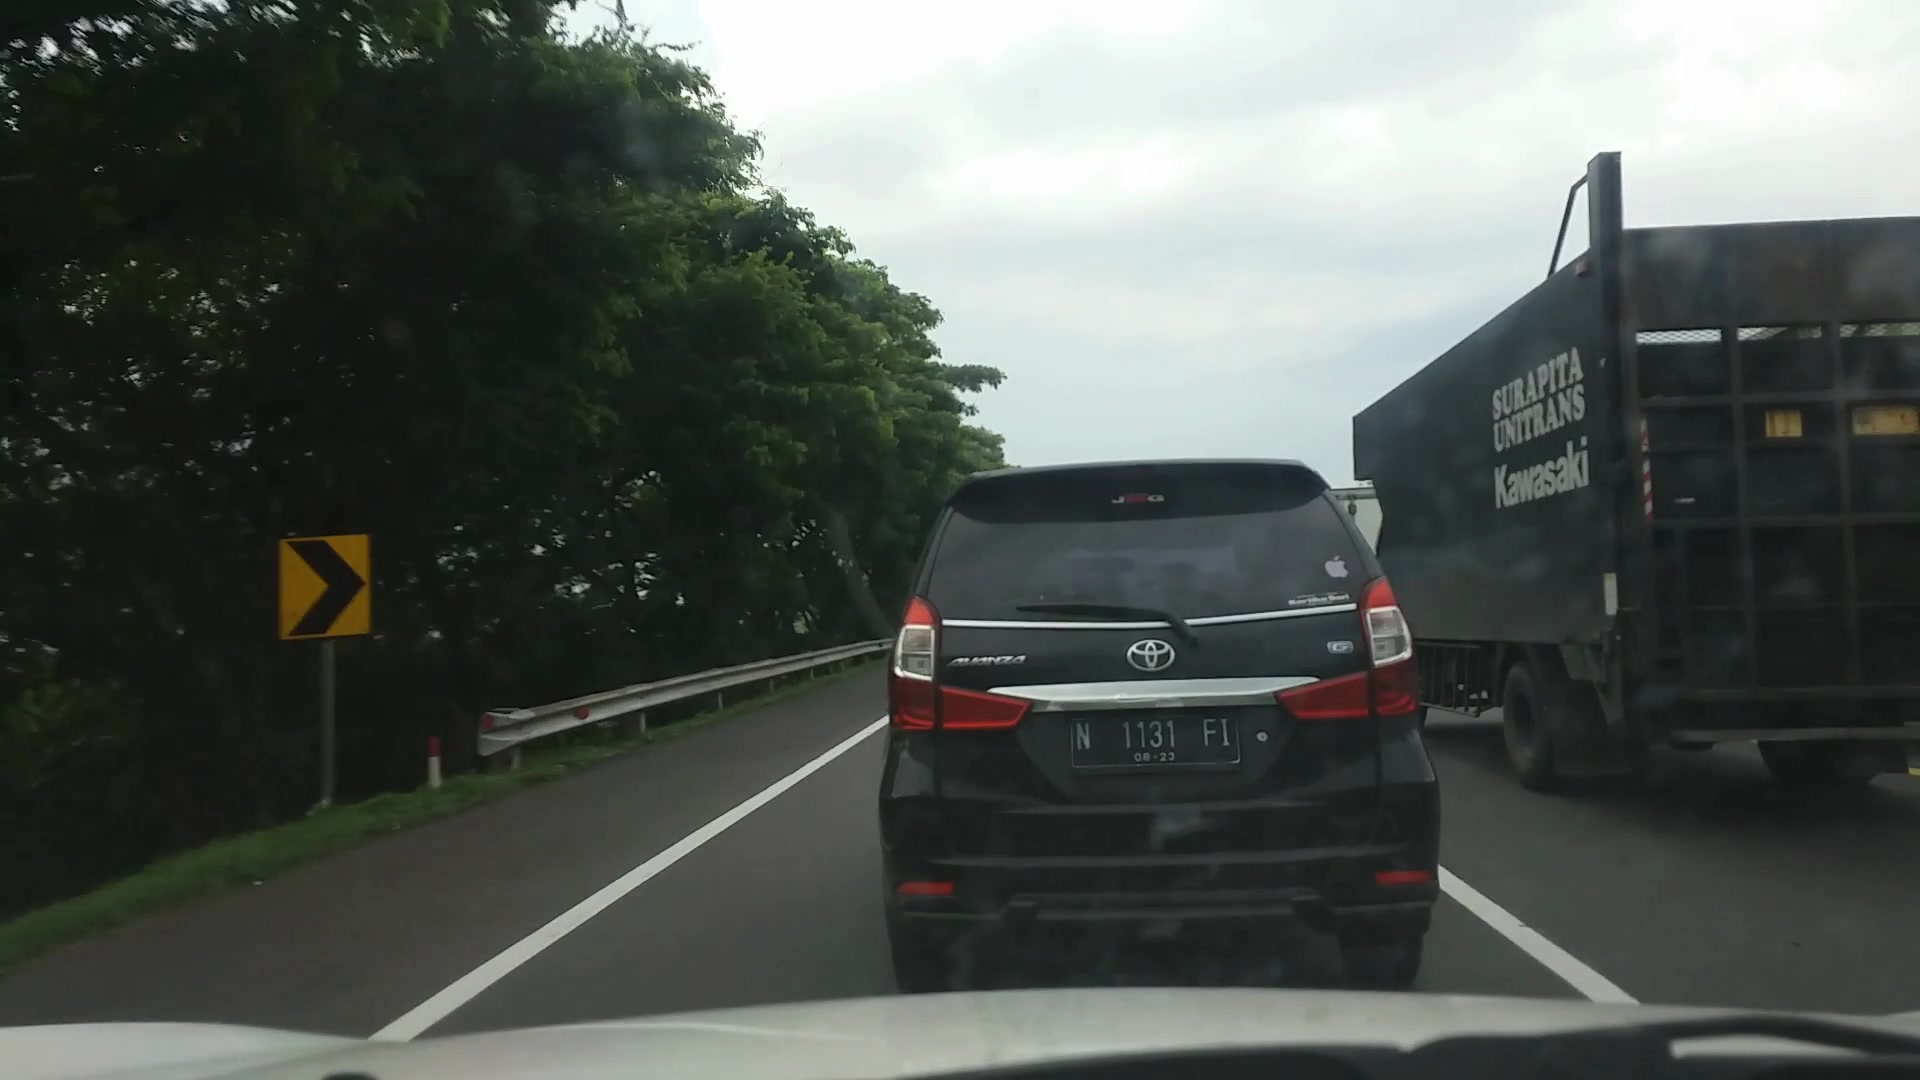plate_positive: (1069, 713, 1242, 766)
